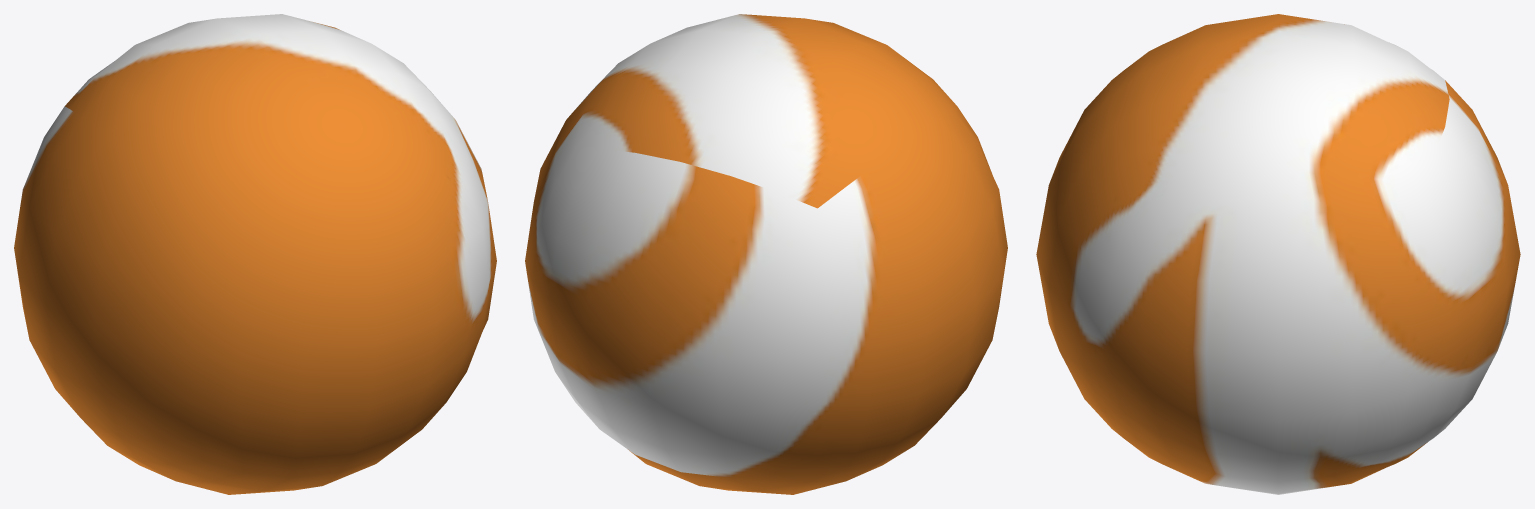
The model's file is ModelTextureTest.fbx.
3 renders of one model, left to right at view 1: azimuth 30°, elevation 25°; view 2: azimuth 150°, elevation 25°; view 3: azimuth 270°, elevation 25°, orthographic.
Visible parts, largest first — view 1: Cube; view 2: Cube; view 3: Cube.
Boxes of the visible parts, bbox=[...] form: Cube: bbox=[14, 14, 496, 494]; Cube: bbox=[525, 14, 1007, 494]; Cube: bbox=[1036, 14, 1520, 494].
Size of the model in its own units: 259 by 259 by 259.
Materials: 1 (1 with a texture image).
